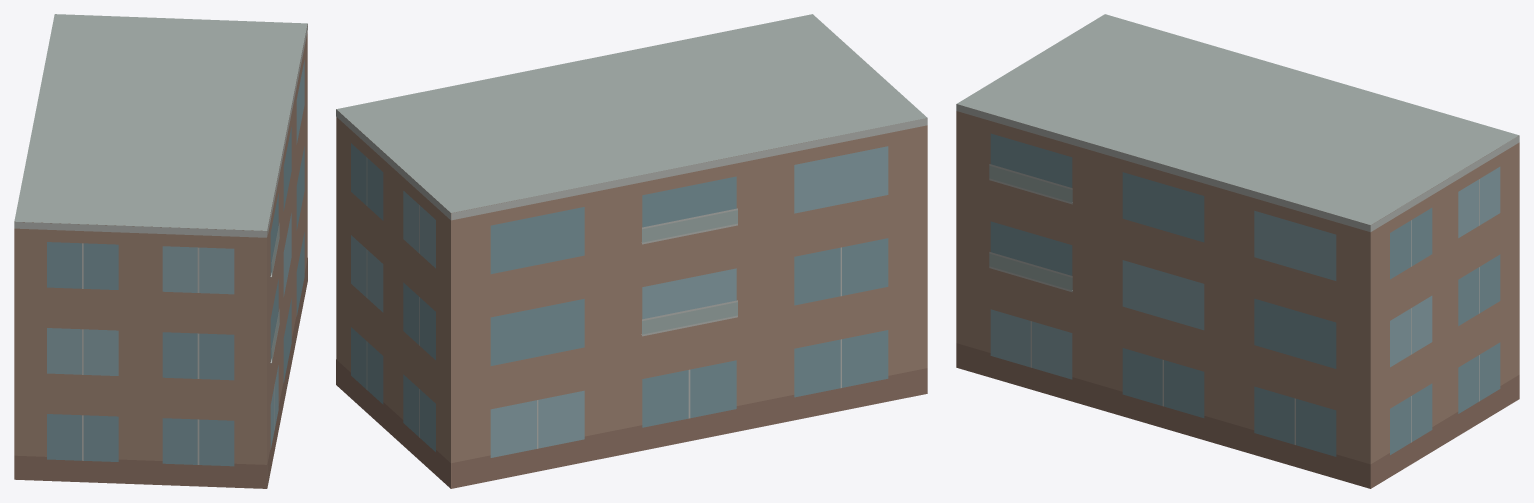
The model's file is survey-upis-32990503.glb.
The picture shows the model from 3 angles, left to right: view 1: azimuth 30°, elevation 25°; view 2: azimuth 150°, elevation 25°; view 3: azimuth 270°, elevation 25°; orthographic projection. The views are drawn at different scales.
Parts seen in each view (by area): view 1: survey-upis-32990503.tmp; view 2: survey-upis-32990503.tmp; view 3: survey-upis-32990503.tmp.
Boxes of the visible parts, x1=… form: survey-upis-32990503.tmp: x1=14, y1=14, x2=307, y2=488; survey-upis-32990503.tmp: x1=336, y1=14, x2=927, y2=488; survey-upis-32990503.tmp: x1=956, y1=14, x2=1519, y2=488.
Bounding box in the file's own units: 15.73 × 9.15 × 17.72.
